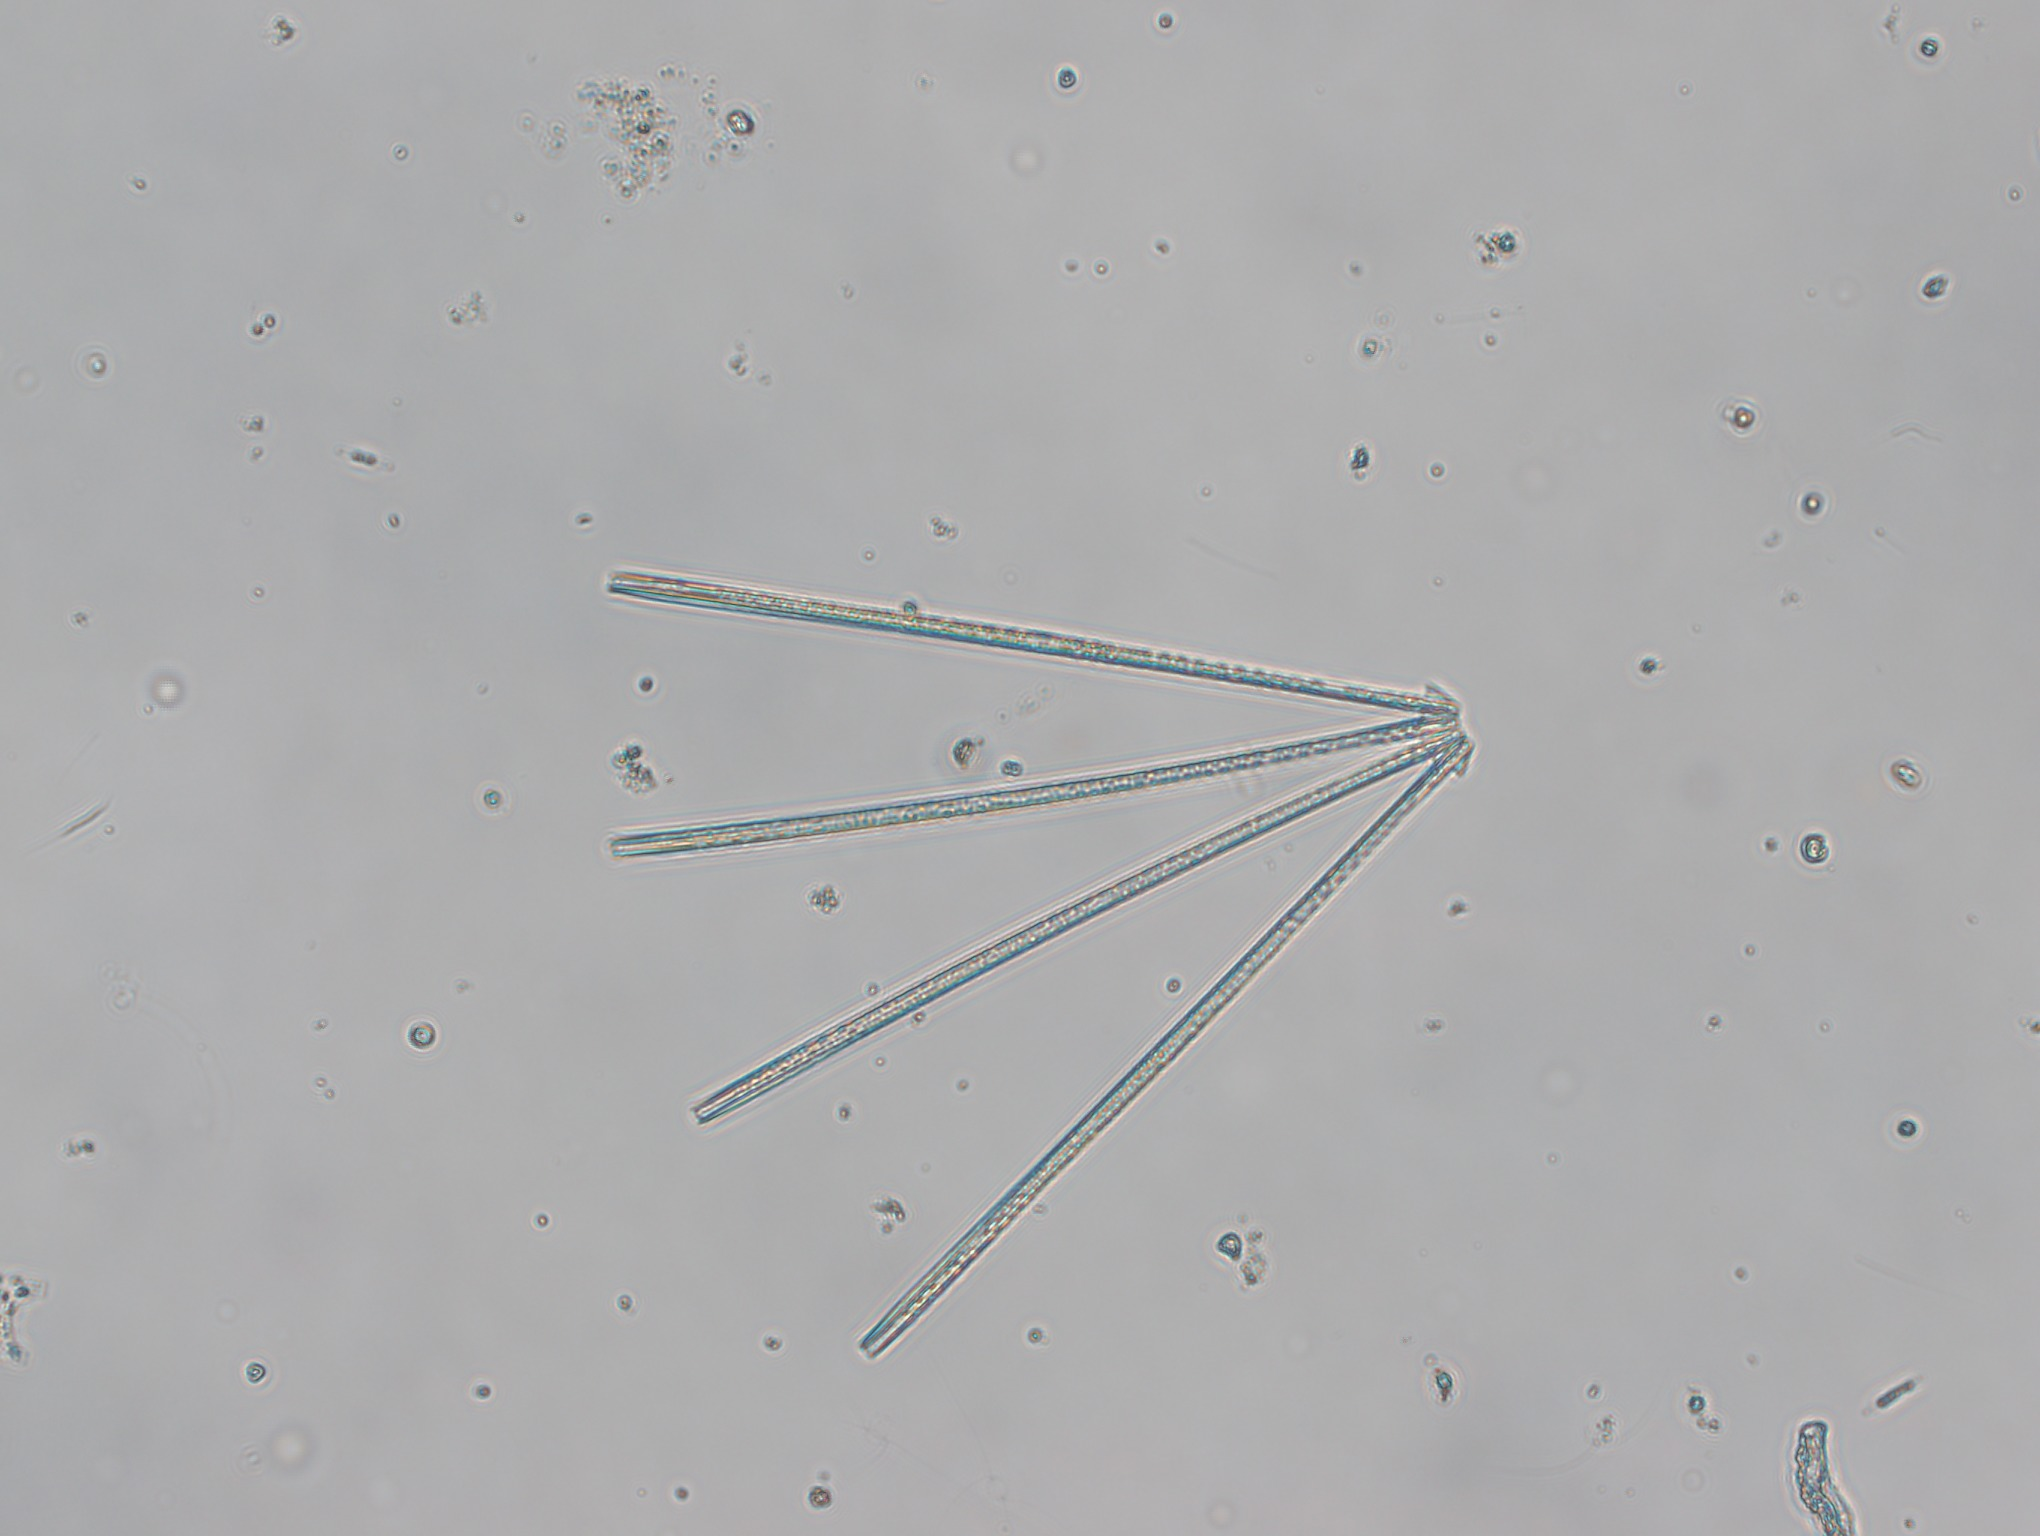thalassionema frauenfeldii: (597, 565, 1479, 1370)
